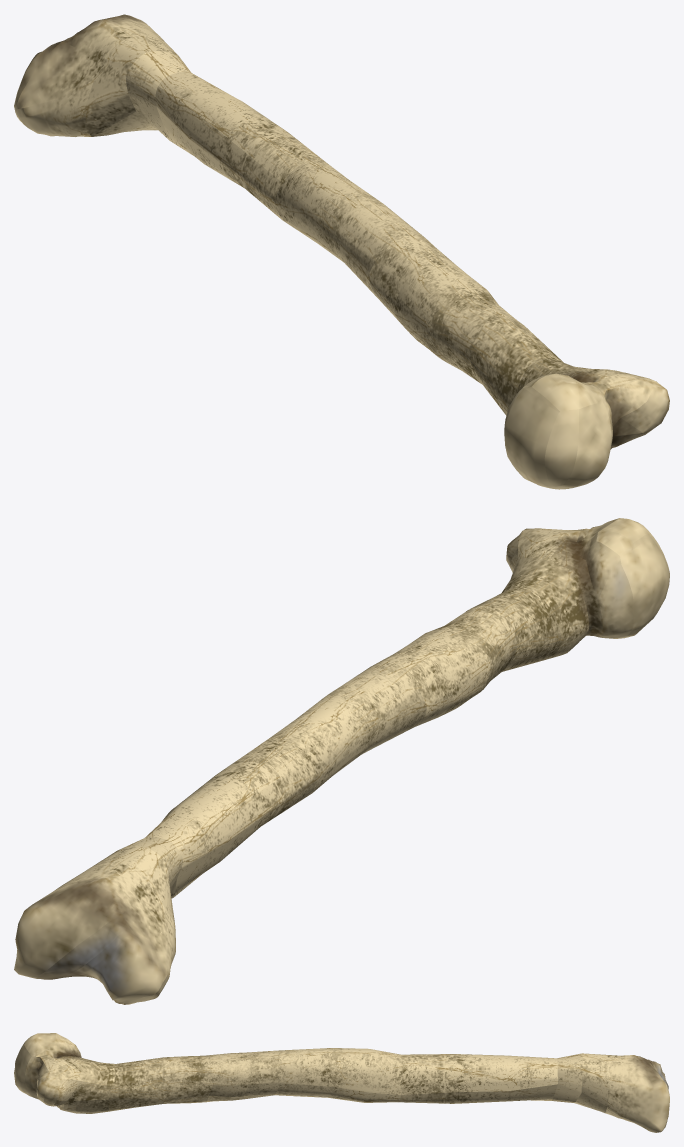
File: bone5.glb
3 views of the same model, one above another, from view 1: azimuth 30°, elevation 25°; view 2: azimuth 150°, elevation 25°; view 3: azimuth 270°, elevation 25° (orthographic). The views are drawn at different scales.
Visible parts, largest first — view 1: polySurface1_lambert8_0; view 2: polySurface1_lambert8_0; view 3: polySurface1_lambert8_0.
Part boxes in pixels (x1=…): polySurface1_lambert8_0: x1=14, y1=14, x2=669, y2=489; polySurface1_lambert8_0: x1=14, y1=518, x2=669, y2=1004; polySurface1_lambert8_0: x1=14, y1=1033, x2=669, y2=1132.
Size of the model in its own units: 0.0398 by 0.0306 by 0.247.
1 material, 1 textured.
